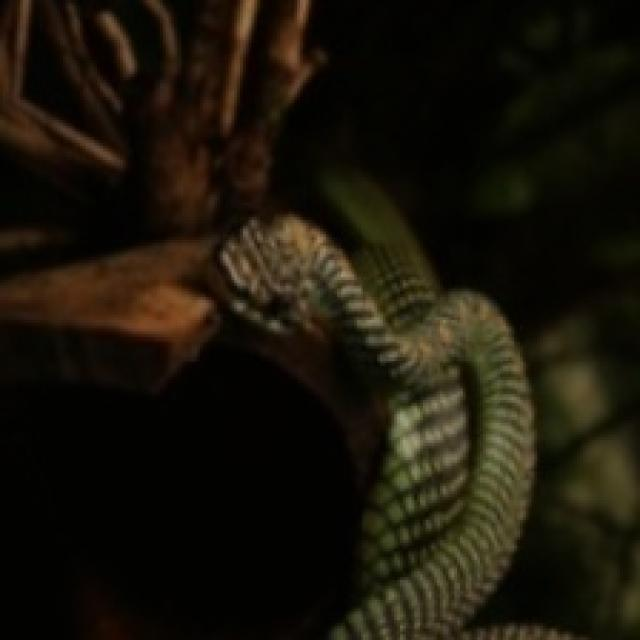paradise tree snake: (214, 171, 531, 637)
